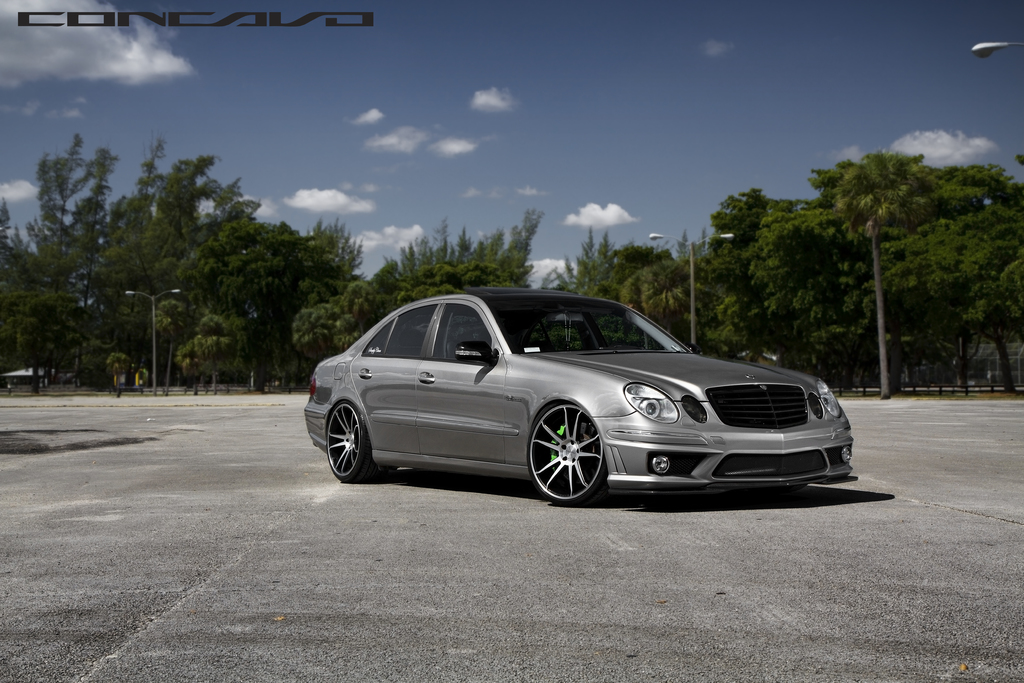Car: (302, 287, 858, 506)
